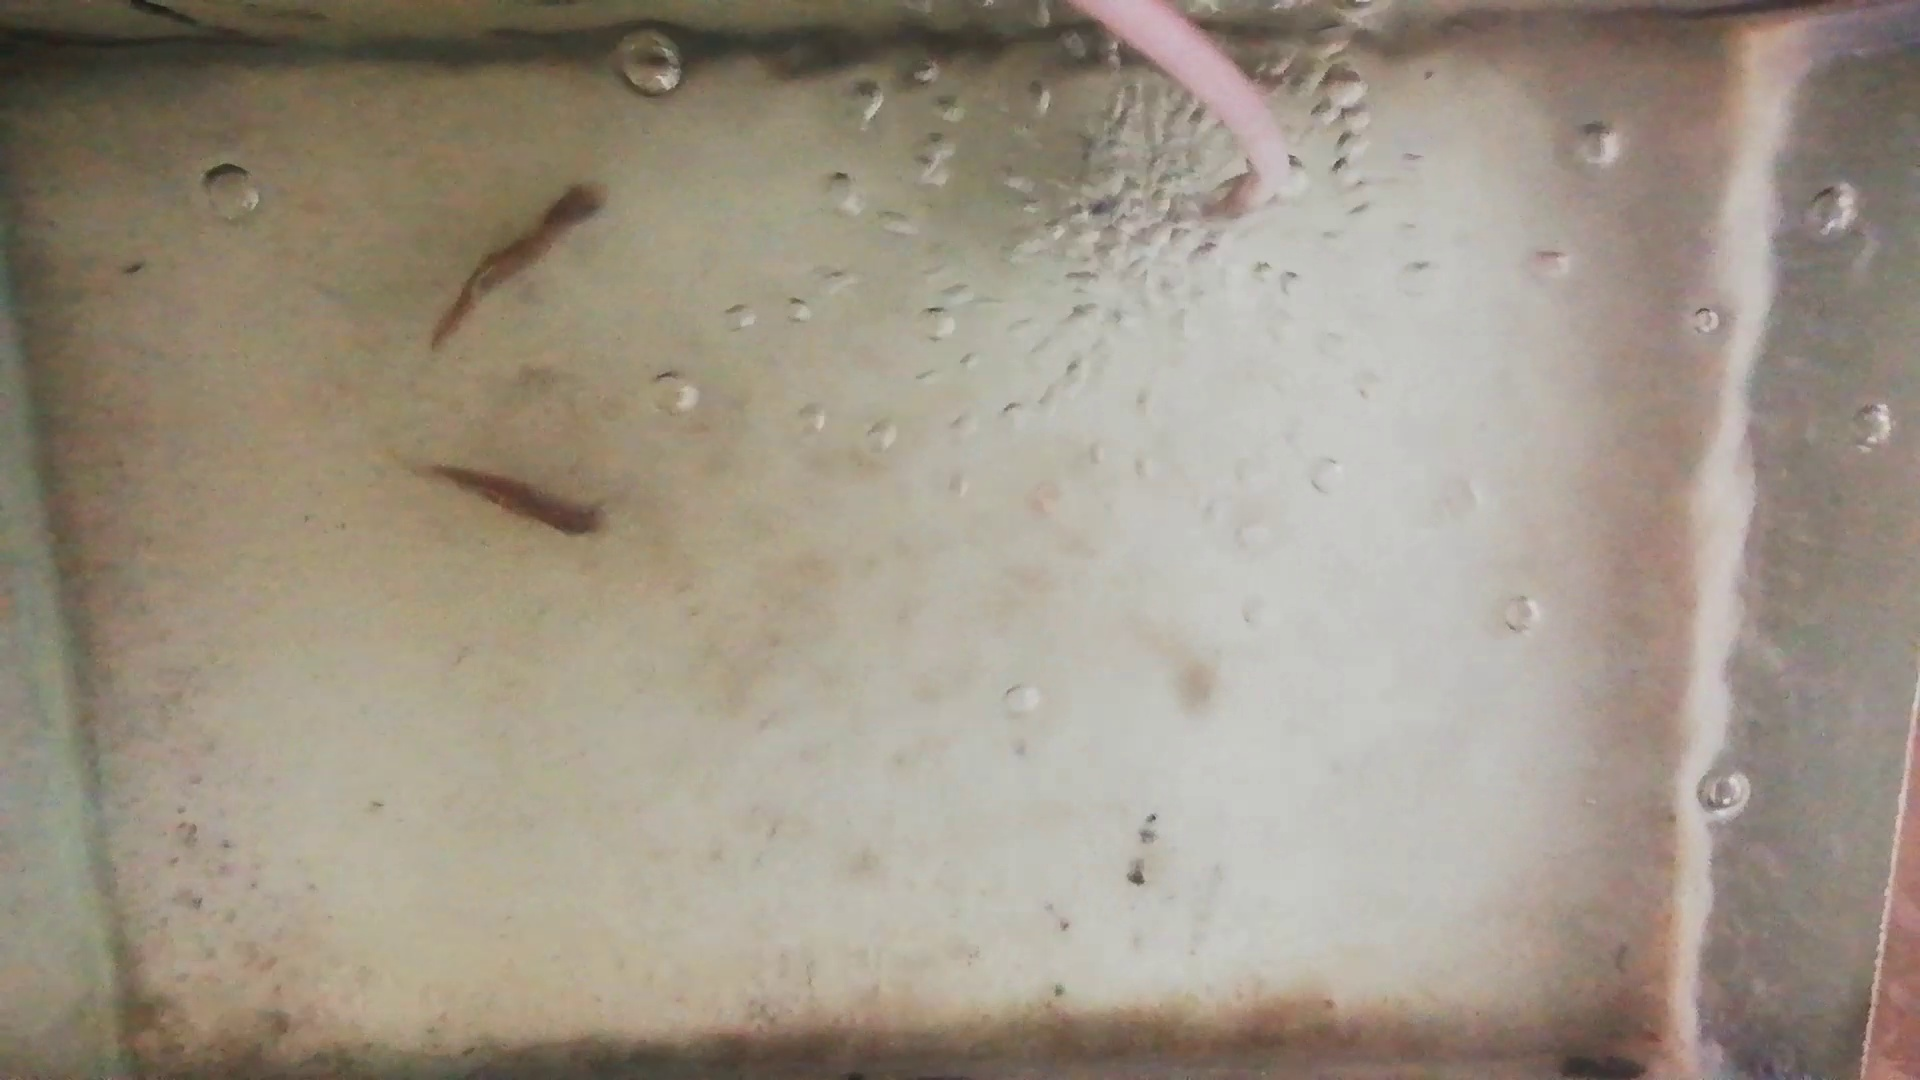fish: (429, 177, 607, 349), (419, 464, 605, 545)
